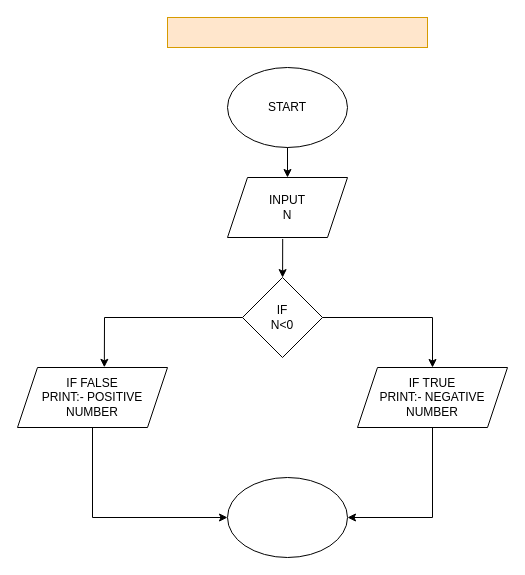
This 525x575 diagram has some shape labels left out. Here are the shapes that lost their labels. From the top down, the box of each, then its label:
(166, 16, 428, 48): POSITIVE NEGATIVE NUMBER PROGRAM
(226, 476, 348, 558): STOP
